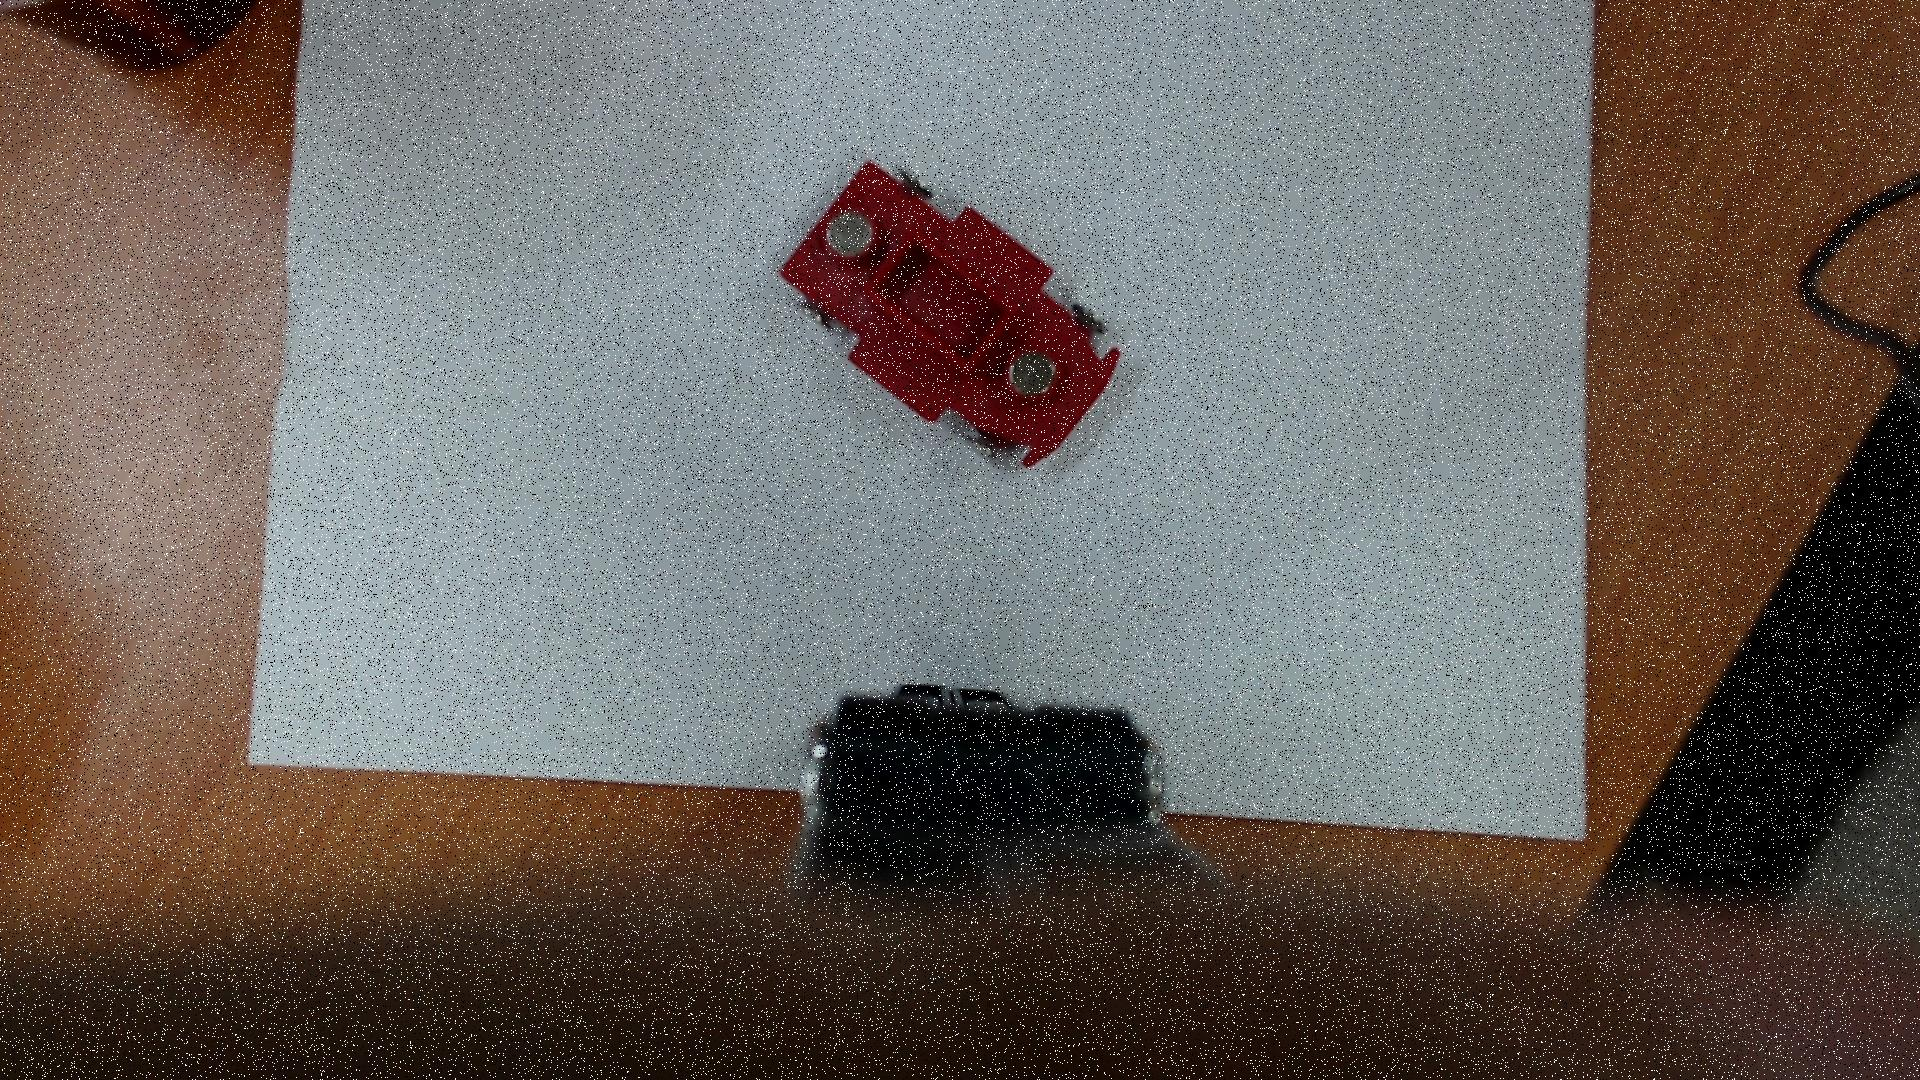lower_ok: (855, 220, 1031, 386)
